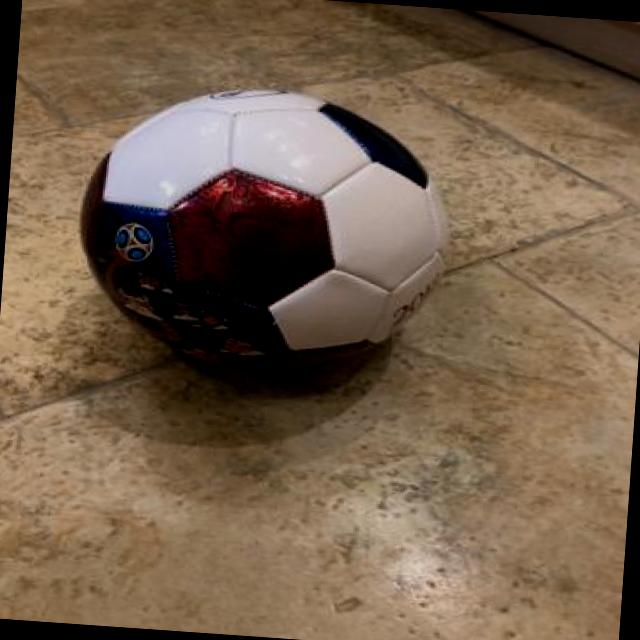Soccer Ball: (65, 74, 459, 383)
